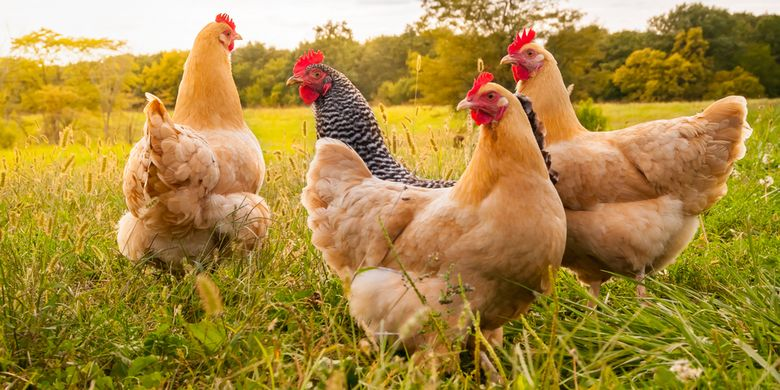ayam: (491, 0, 753, 299), (290, 74, 556, 345), (104, 0, 275, 277), (276, 15, 367, 140)
